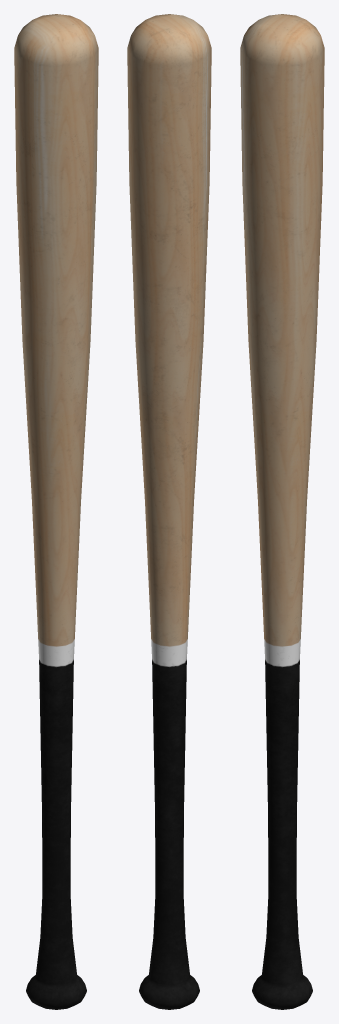
File: Baseball_Bat.gltf
3 renders of one model, left to right at view 1: azimuth 30°, elevation 25°; view 2: azimuth 210°, elevation 25°; view 3: azimuth 330°, elevation 25°, orthographic.
Visible parts, largest first — view 1: baseball_bat; view 2: baseball_bat; view 3: baseball_bat.
Boxes of the visible parts, bbox=[...] form: baseball_bat: bbox=[14, 14, 98, 1009]; baseball_bat: bbox=[127, 14, 211, 1009]; baseball_bat: bbox=[240, 14, 324, 1009].
Size of the model in its own units: 6.79 by 87 by 6.79.
1 material, 1 textured.
